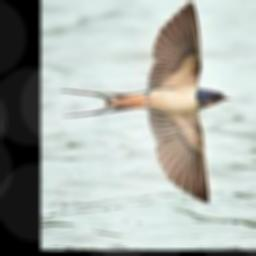Swallow: (62, 1, 232, 202)
